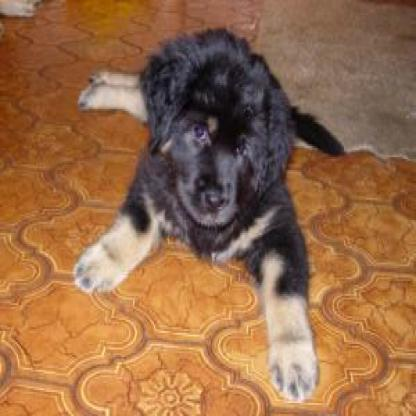Tibetan_mastiff: (71, 22, 348, 403)
